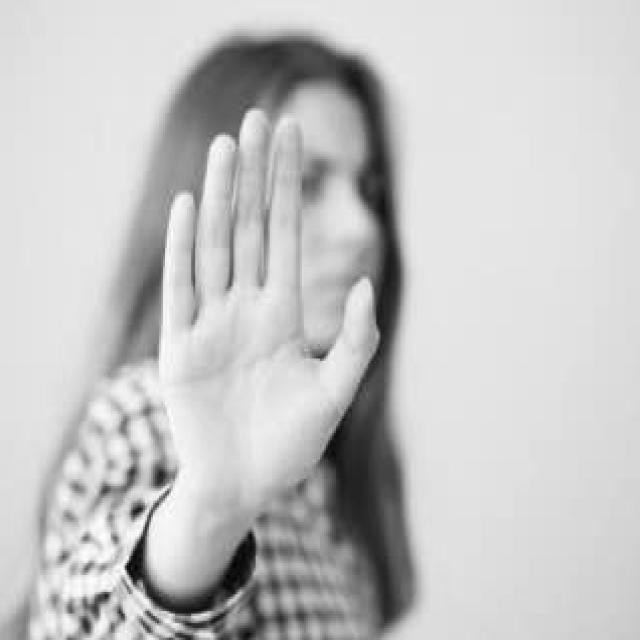stop: (154, 99, 384, 511)
